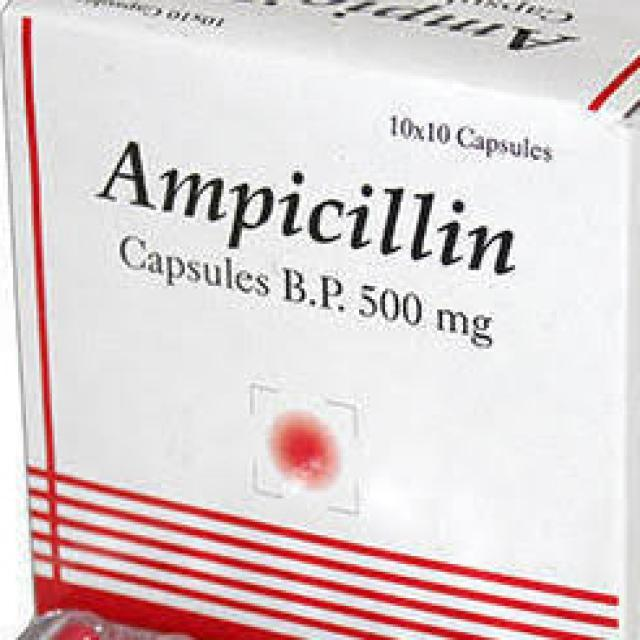drug-name: (88, 129, 526, 303)
